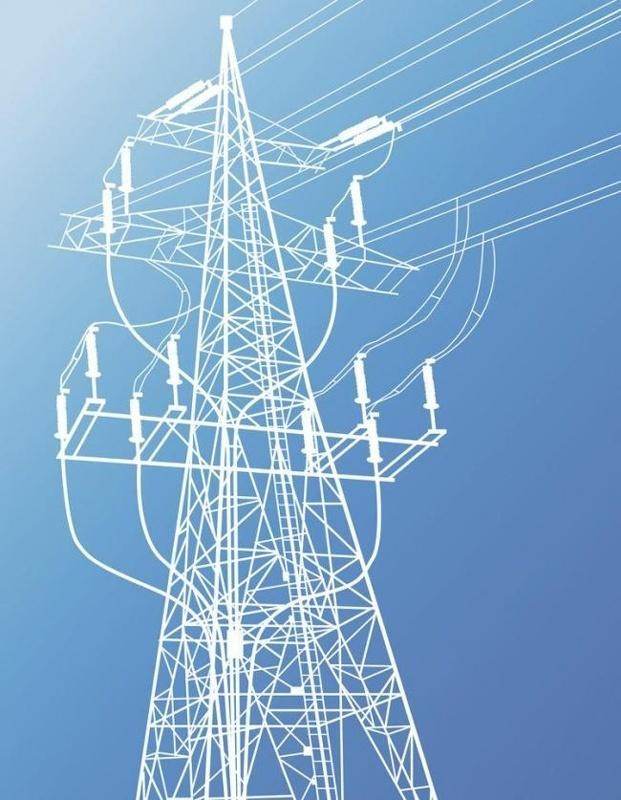power_tower: (82, 61, 460, 788)
